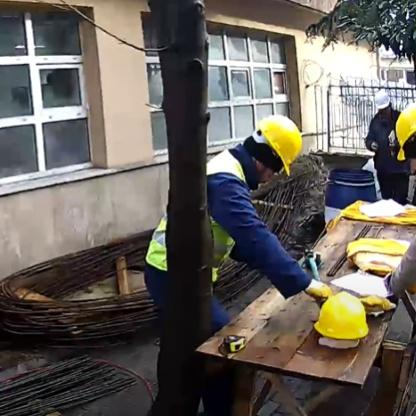helmet: (235, 103, 313, 192)
